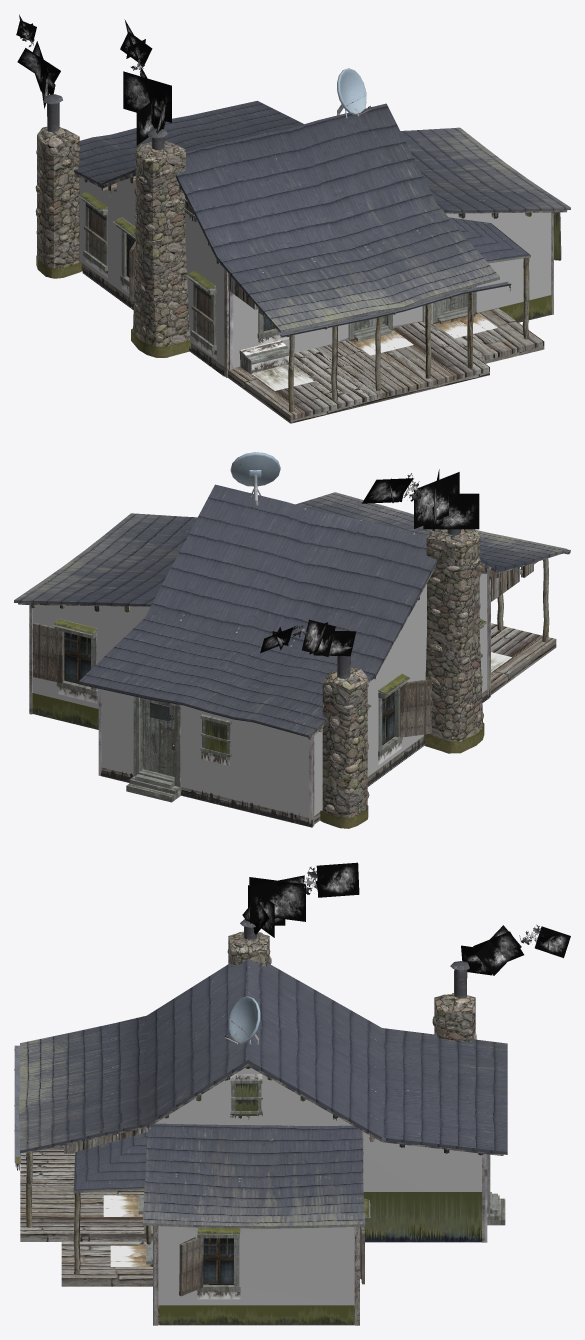
Rendered from 1GGP06E_Van_Hoye_Bart_HouseModel.fbx.
3 renders of one model, top to bottom at view 1: azimuth 30°, elevation 25°; view 2: azimuth 150°, elevation 25°; view 3: azimuth 270°, elevation 25°, orthographic. The views are drawn at different scales.
Visible parts, largest first — view 1: Cabin8; view 2: Cabin8; view 3: Cabin8.
Part boxes in pixels (x1=…): Cabin8: x1=16, y1=14, x2=570, y2=423; Cabin8: x1=14, y1=452, x2=570, y2=828; Cabin8: x1=14, y1=862, x2=570, y2=1325.
Size of the model in its own units: 1162 by 858 by 1424.
